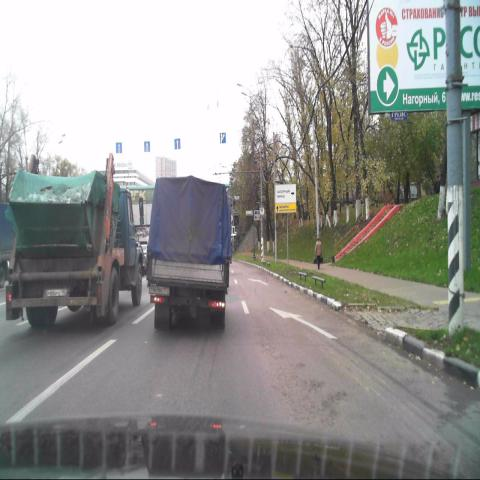5_15_2: (144, 140, 151, 153), (116, 142, 122, 154), (174, 138, 180, 150), (220, 132, 226, 143)
